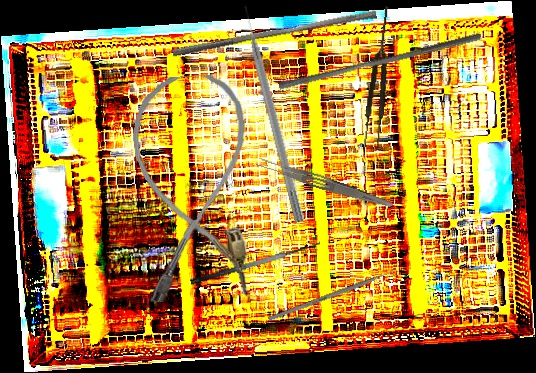Cannula: (130, 73, 254, 303)
Dressing Forceps: (254, 154, 396, 211)
Pusher: (277, 24, 483, 98), (240, 3, 307, 224), (171, 2, 378, 66), (267, 265, 405, 322)
Spatula Surgical: (186, 232, 323, 287)
Tissue Forceps: (361, 5, 397, 151)
